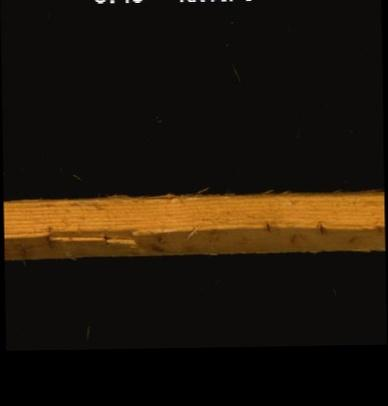wave: (3, 190, 382, 249)
